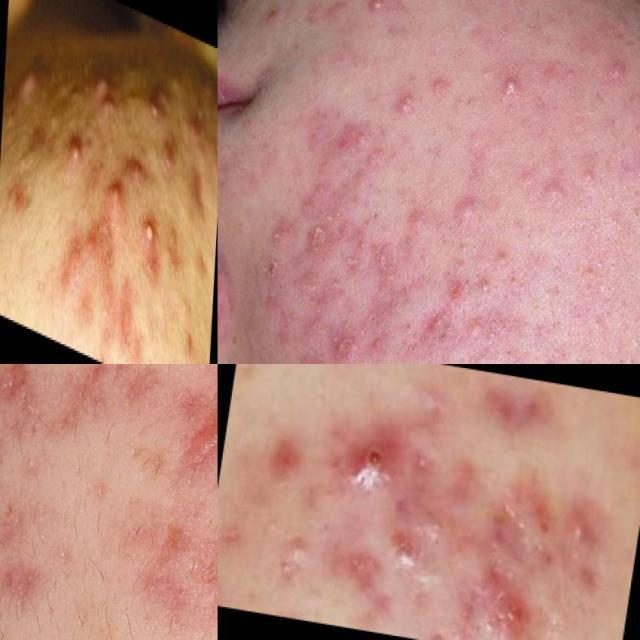cyst: (478, 583, 518, 638), (360, 443, 388, 479)
